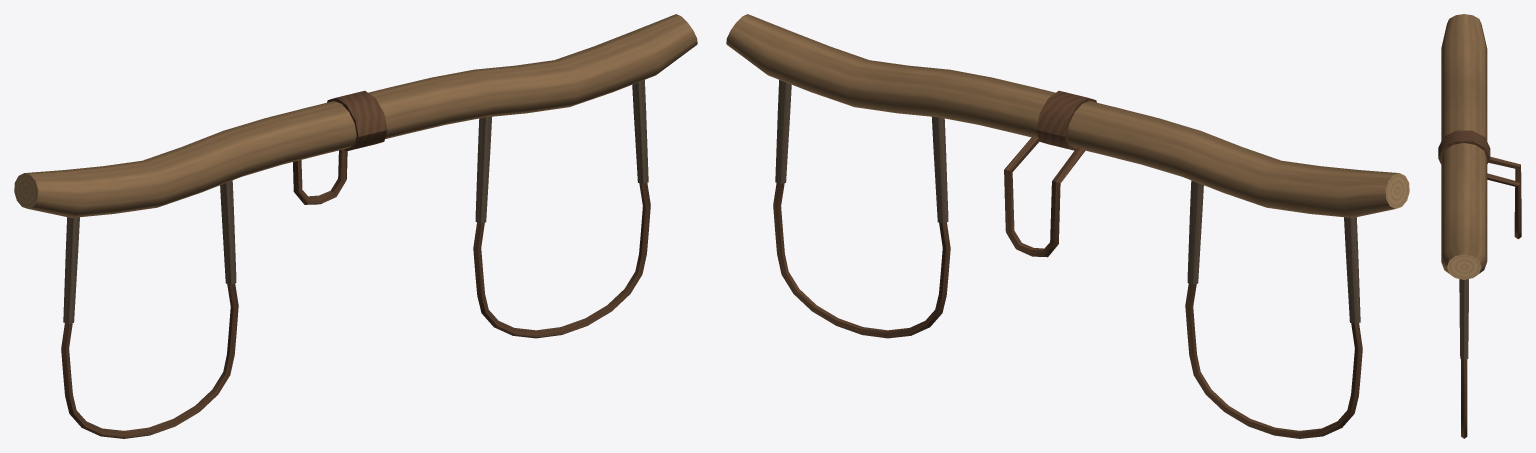
The model's file is yoke_pair.glb.
3 renders of one model, left to right at view 1: azimuth 30°, elevation 25°; view 2: azimuth 150°, elevation 25°; view 3: azimuth 270°, elevation 25°, orthographic. The views are drawn at different scales.
Parts seen in each view (by area): view 1: YOKE_PAIR; view 2: YOKE_PAIR; view 3: YOKE_PAIR.
Boxes of the visible parts, x1=… form: YOKE_PAIR: x1=14, y1=14, x2=697, y2=438; YOKE_PAIR: x1=726, y1=14, x2=1409, y2=438; YOKE_PAIR: x1=1438, y1=14, x2=1521, y2=438.
Size of the model in its own units: 1.62 by 0.6714 by 0.2315.
1 material, 1 textured.
